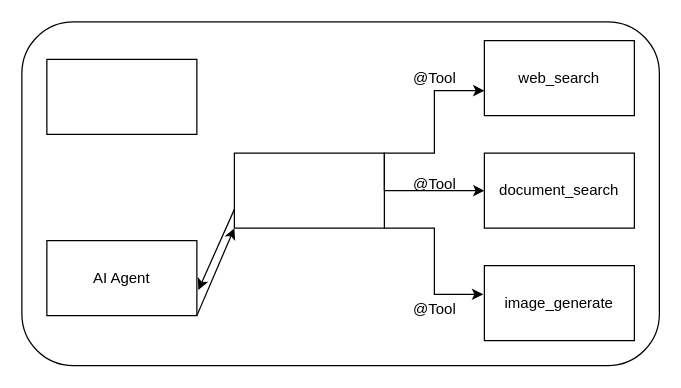
The diagram is 681 pixels wide and 388 high, and some of its shapes have lost their labels. The centre of each missing label's shape, as x and y in pixels:
Host(LLM): (121,96)
MCP Server: (308,190)
